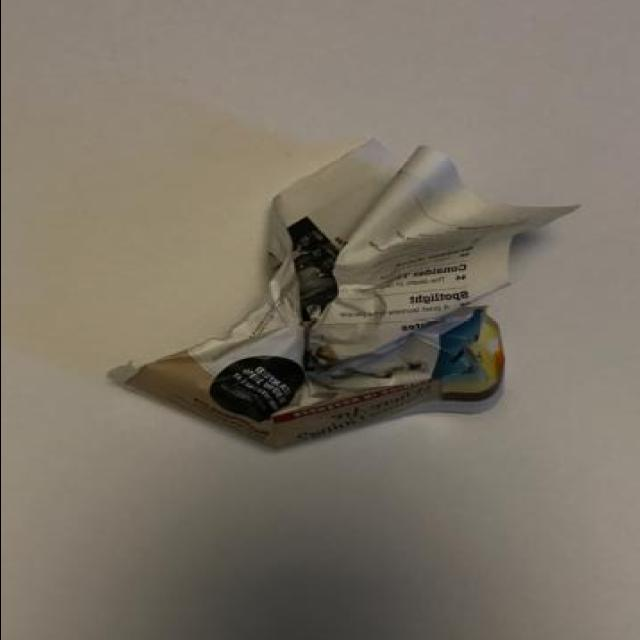kertas: (107, 133, 586, 450)
